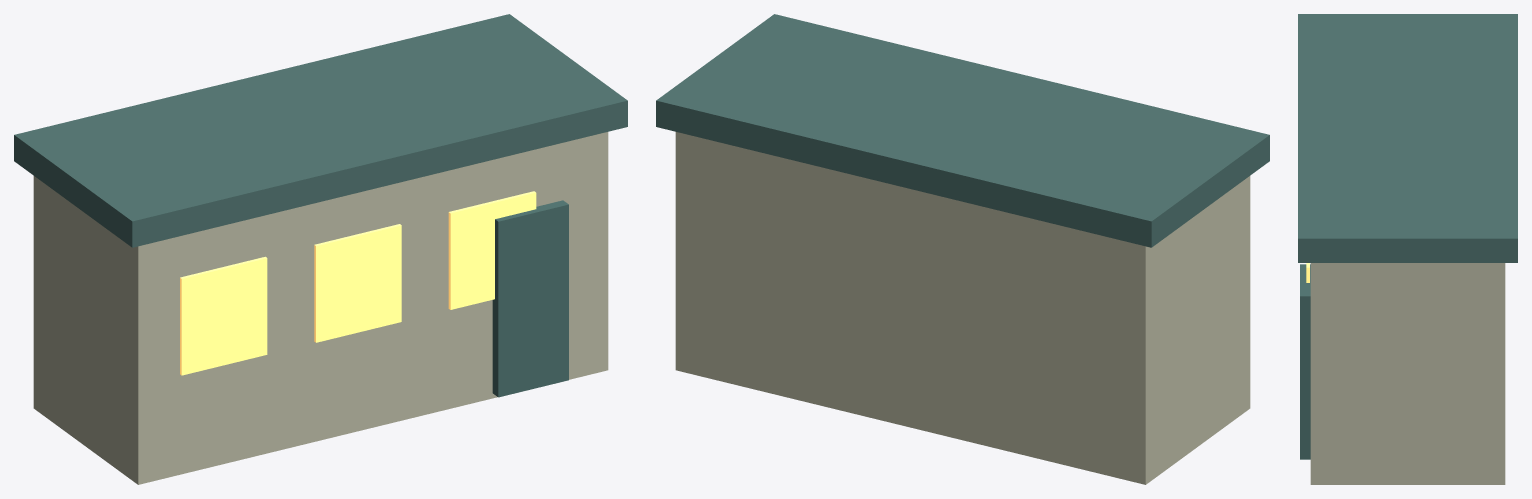
The model's file is site-office.glb.
3 renders of one model, left to right at view 1: azimuth 30°, elevation 25°; view 2: azimuth 150°, elevation 25°; view 3: azimuth 270°, elevation 25°, orthographic. The views are drawn at different scales.
Visible parts, largest first — view 1: site-office, site-office_glow; view 2: site-office; view 3: site-office.
Part boxes in pixels (bbox=[...]): site-office: bbox=[14, 14, 627, 484]; site-office_glow: bbox=[180, 191, 536, 375]; site-office: bbox=[656, 14, 1269, 484]; site-office: bbox=[1298, 14, 1517, 484].
Bounding box in the file's own units: 2.95 × 1.54 × 1.22.
